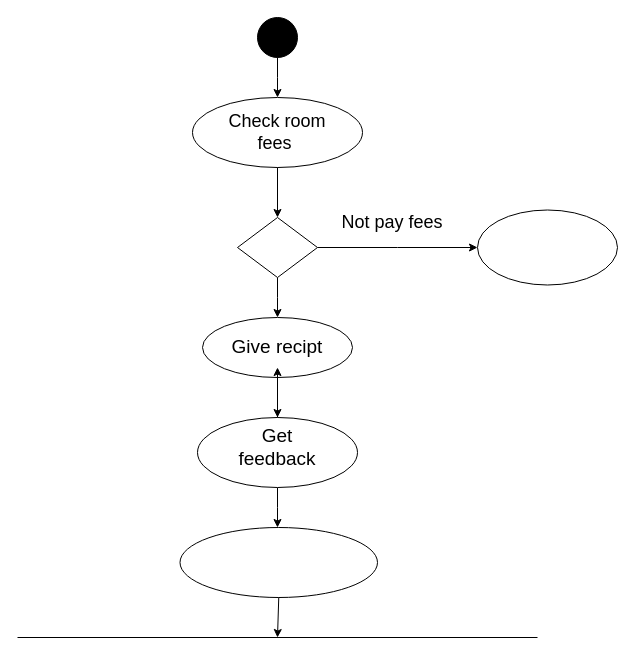
The diagram is 635 pixels wide and 663 high, and some of its shapes have lost their labels. Each missing label, with the centre of its shape:
Alert "Not pay fees": point 547,247
Student Bihaver: point 278,562
